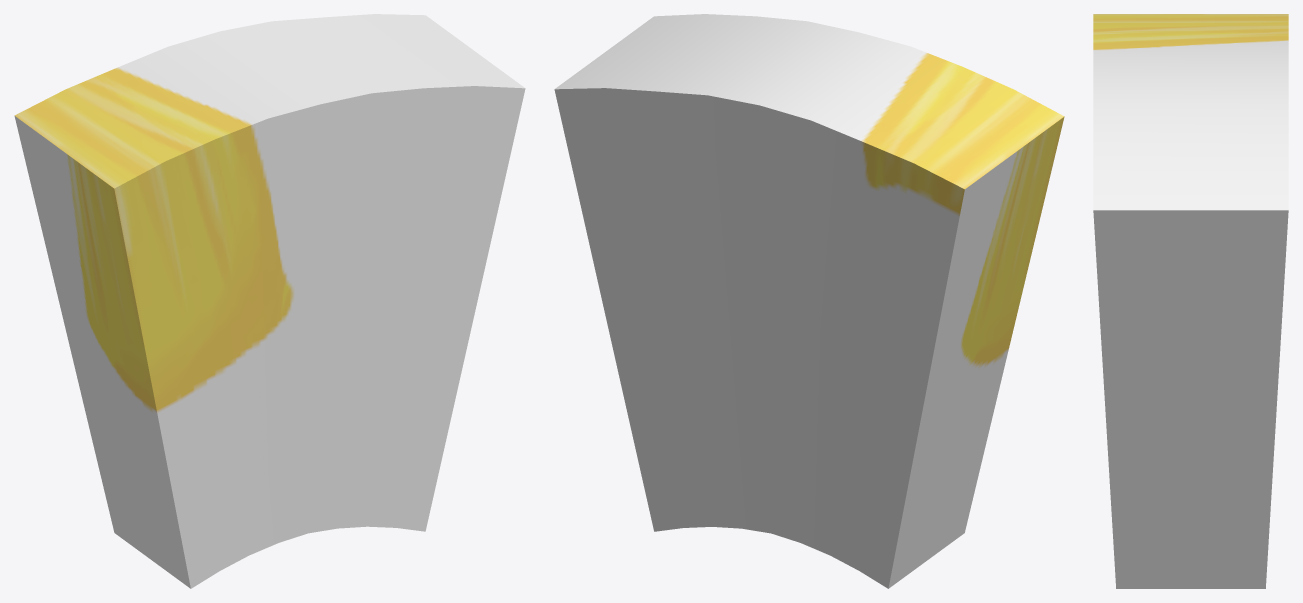
The model's file is pineapple.fbx.
The picture shows the model from 3 angles, left to right: view 1: azimuth 30°, elevation 25°; view 2: azimuth 150°, elevation 25°; view 3: azimuth 270°, elevation 25°; orthographic projection. The views are drawn at different scales.
Visible parts, largest first — view 1: pCube1; view 2: pCube1; view 3: pCube1.
Part boxes in pixels (bbox=[...]): pCube1: bbox=[14, 14, 525, 588]; pCube1: bbox=[554, 14, 1064, 588]; pCube1: bbox=[1093, 14, 1288, 588].
Bounding box in the file's own units: 6 × 6.47 × 2.52.
